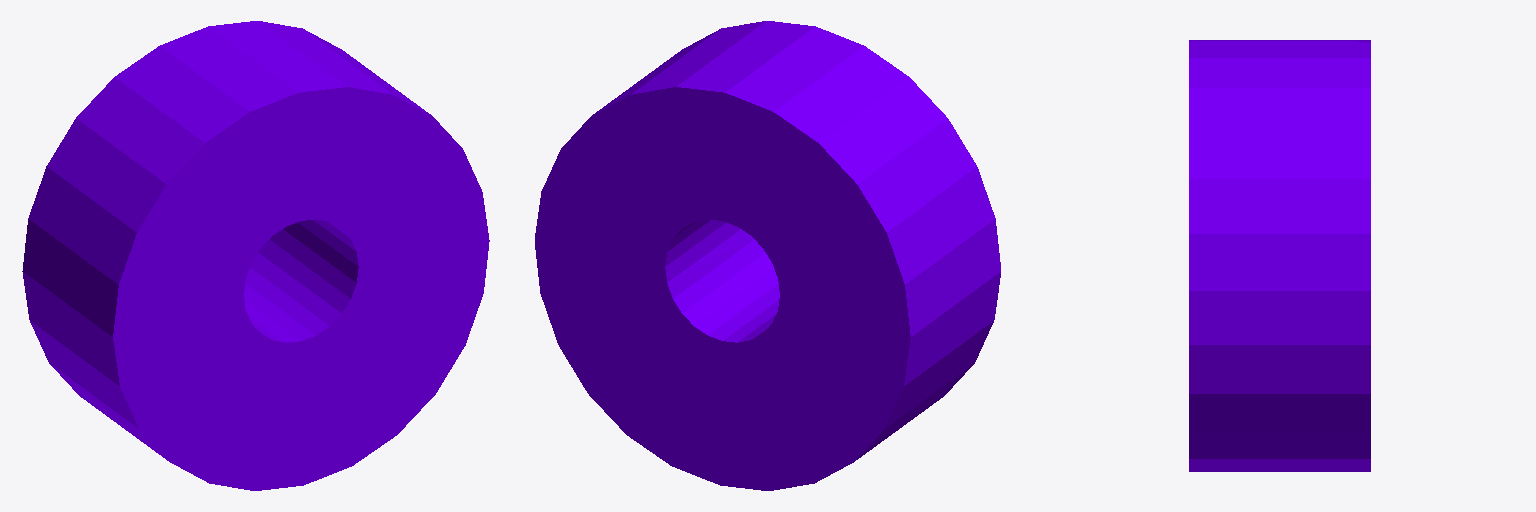
The model's file is carro_circulo3.obj.
The picture shows the model from 3 angles: view 1: azimuth 30°, elevation 25°; view 2: azimuth 150°, elevation 25°; view 3: azimuth 270°, elevation 25°; orthographic projection.
Parts seen in each view (by area): view 1: circulo3_Mesh30_Group30_Model; view 2: circulo3_Mesh30_Group30_Model; view 3: circulo3_Mesh30_Group30_Model.
Part boxes in pixels (x1,y1,x2,y2): circulo3_Mesh30_Group30_Model: (22, 21, 489, 490); circulo3_Mesh30_Group30_Model: (535, 21, 1000, 490); circulo3_Mesh30_Group30_Model: (1189, 40, 1370, 471).
Size of the model in its own units: 23.99 by 23.98 by 10.01.